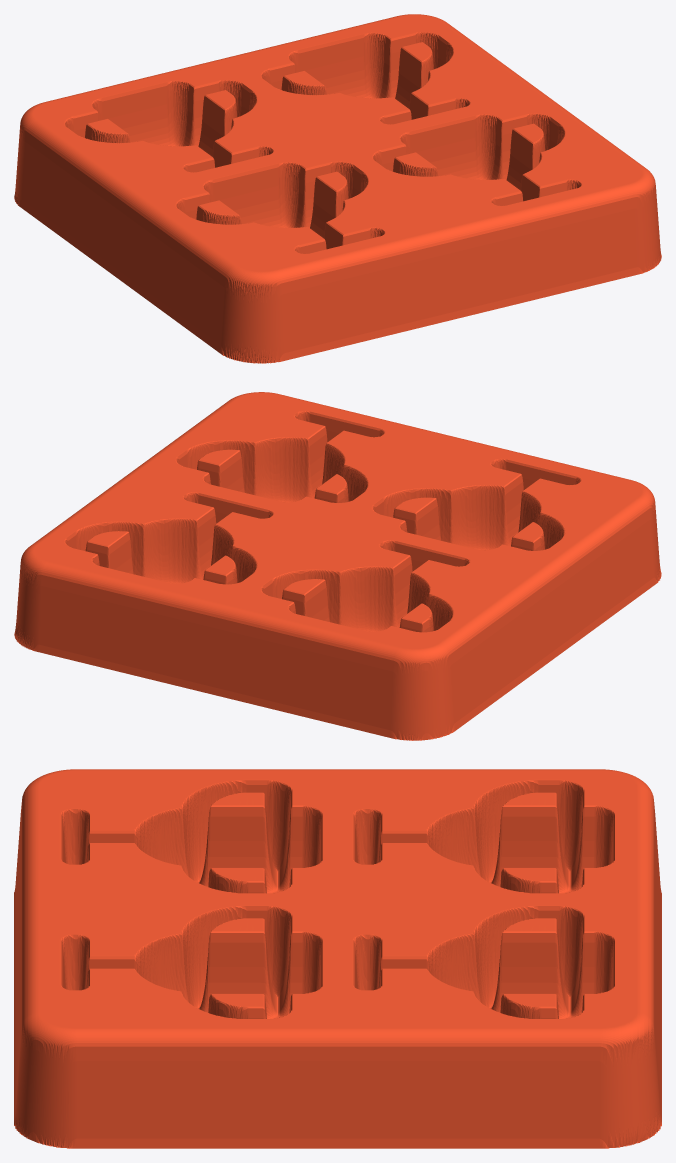
File: mold.glb
The picture shows the model from 3 angles, top to bottom: view 1: azimuth 30°, elevation 25°; view 2: azimuth 150°, elevation 25°; view 3: azimuth 270°, elevation 25°; orthographic projection. The views are drawn at different scales.
Parts seen in each view (by area): view 1: geometry_0; view 2: geometry_0; view 3: geometry_0.
Boxes of the visible parts, x1=… form: geometry_0: x1=14, y1=14, x2=661, y2=363; geometry_0: x1=14, y1=392, x2=661, y2=740; geometry_0: x1=14, y1=769, x2=661, y2=1148.
Bounding box in the file's own units: 0.0952 × 0.0175 × 0.0936.
